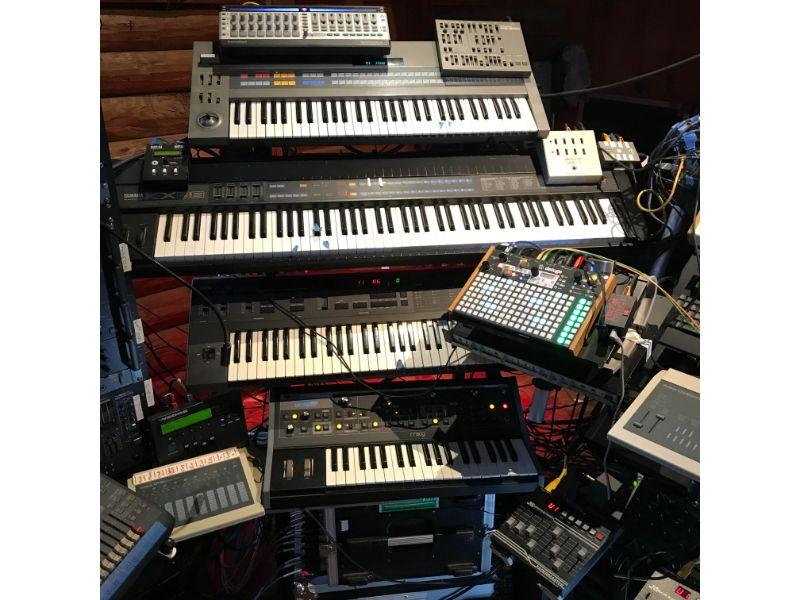synthesizer: (146, 161, 618, 250), (185, 29, 538, 134), (181, 274, 508, 373), (261, 394, 536, 487)
